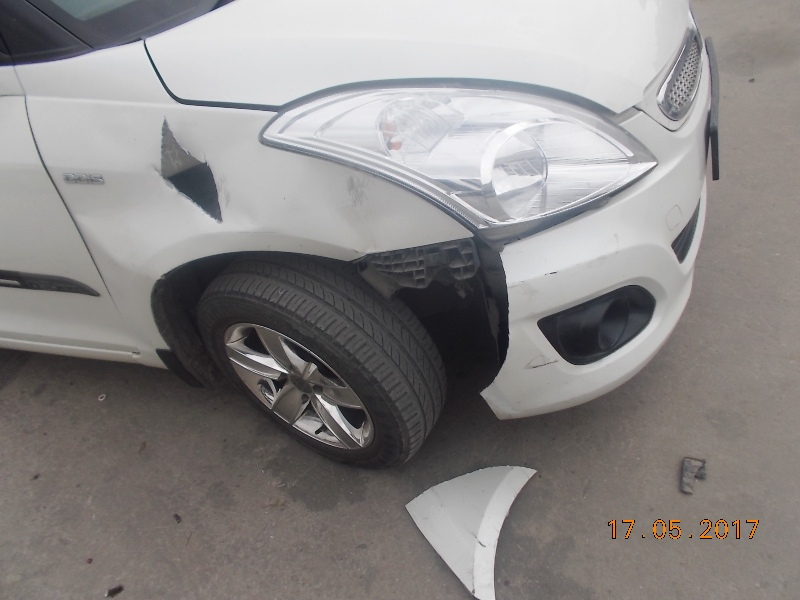Tear: (155, 115, 230, 229), (484, 248, 529, 393)
